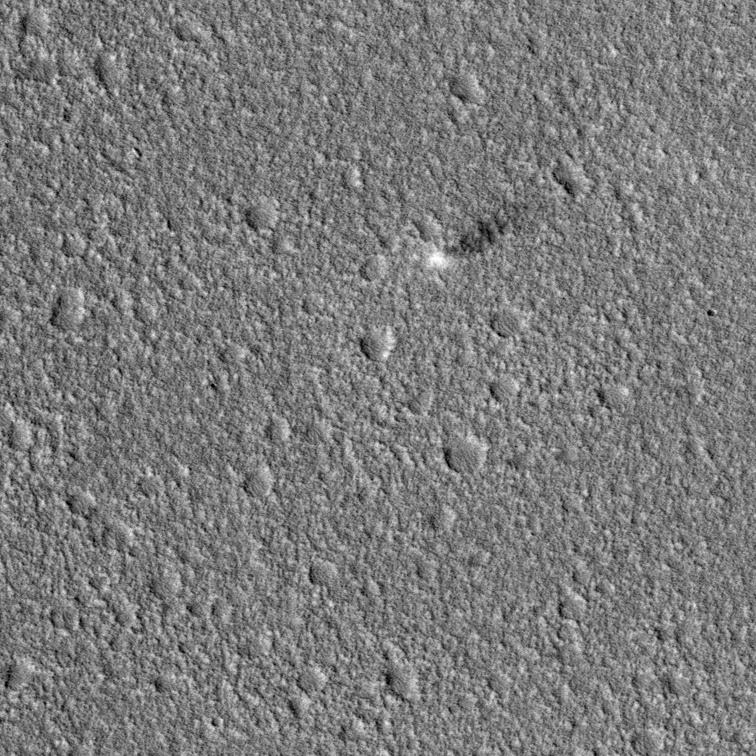dust_devil: (423, 203, 536, 278)
